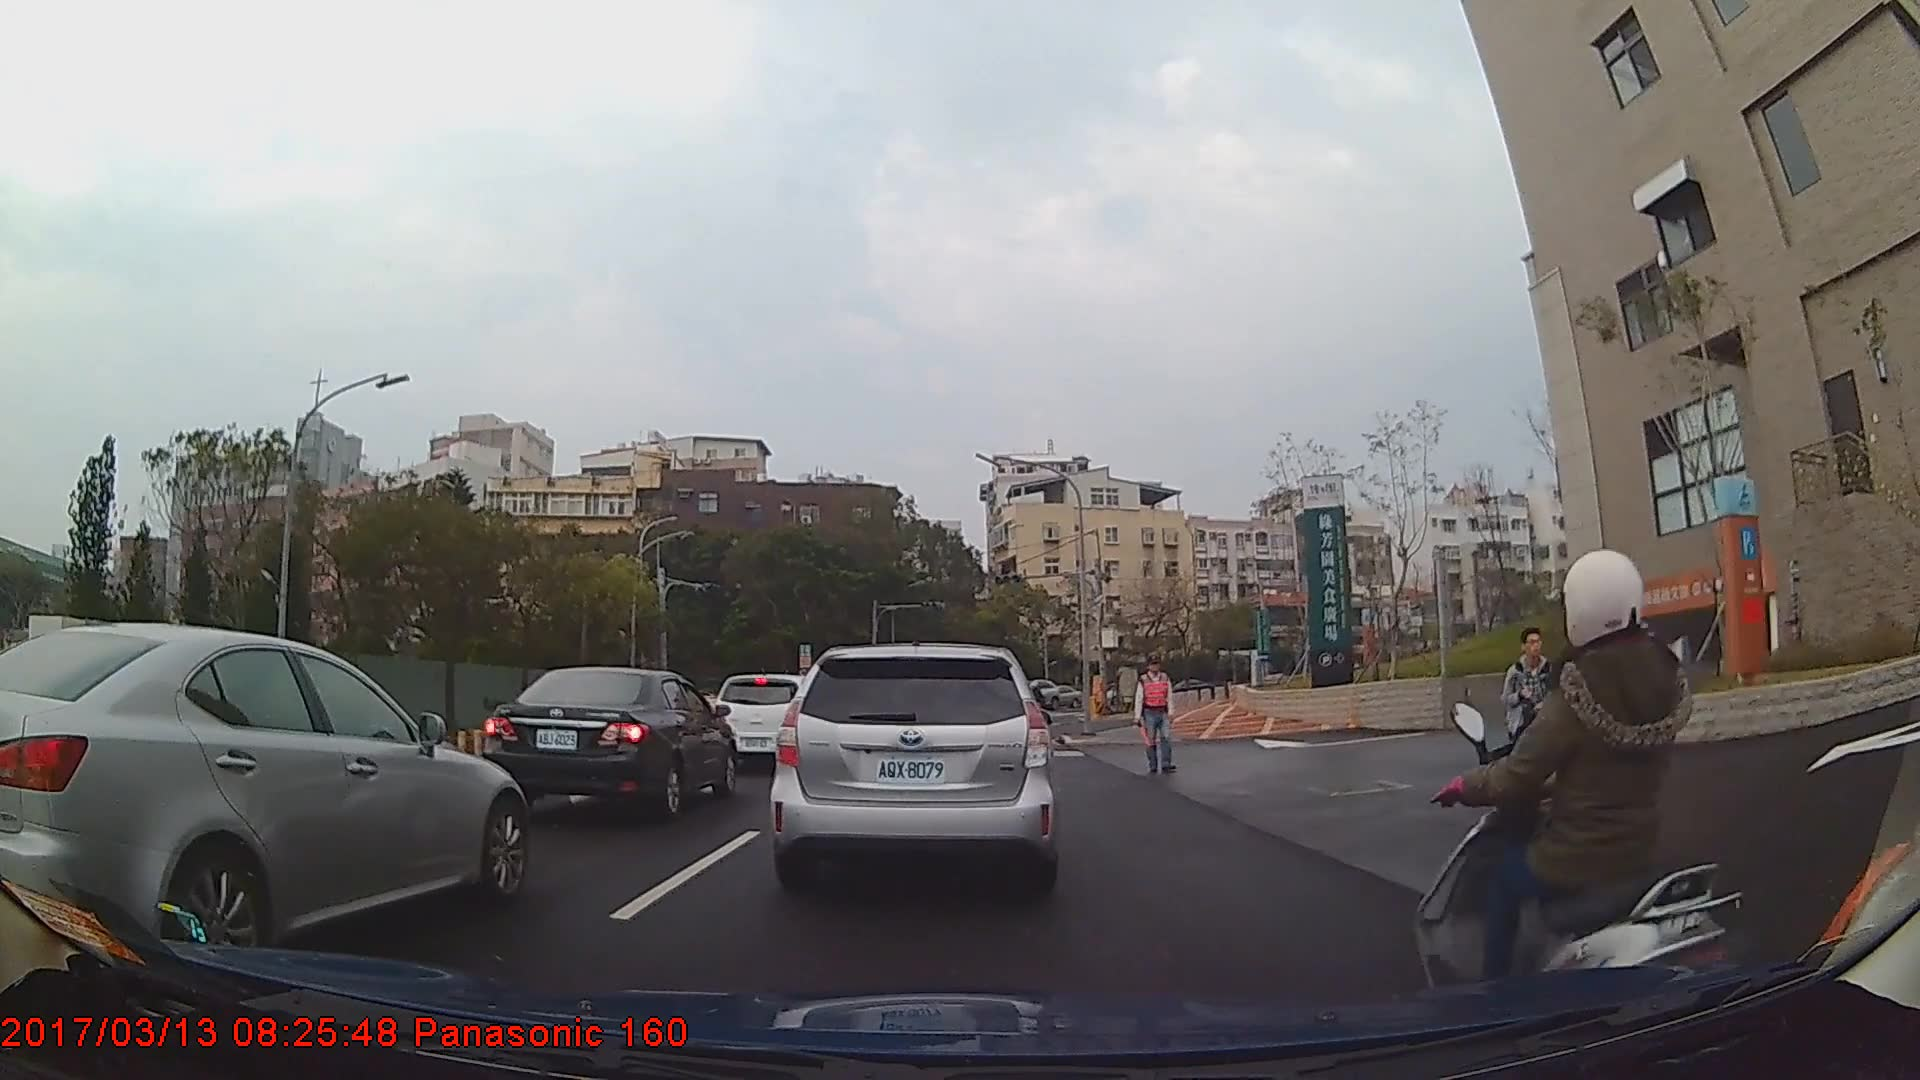pedestrian: (1501, 620, 1558, 820), (1137, 658, 1180, 779)
rider: (1422, 544, 1741, 1064)
vehicle: (0, 619, 527, 969), (768, 645, 1060, 899), (484, 668, 739, 824), (717, 675, 822, 765), (1043, 685, 1083, 714)
